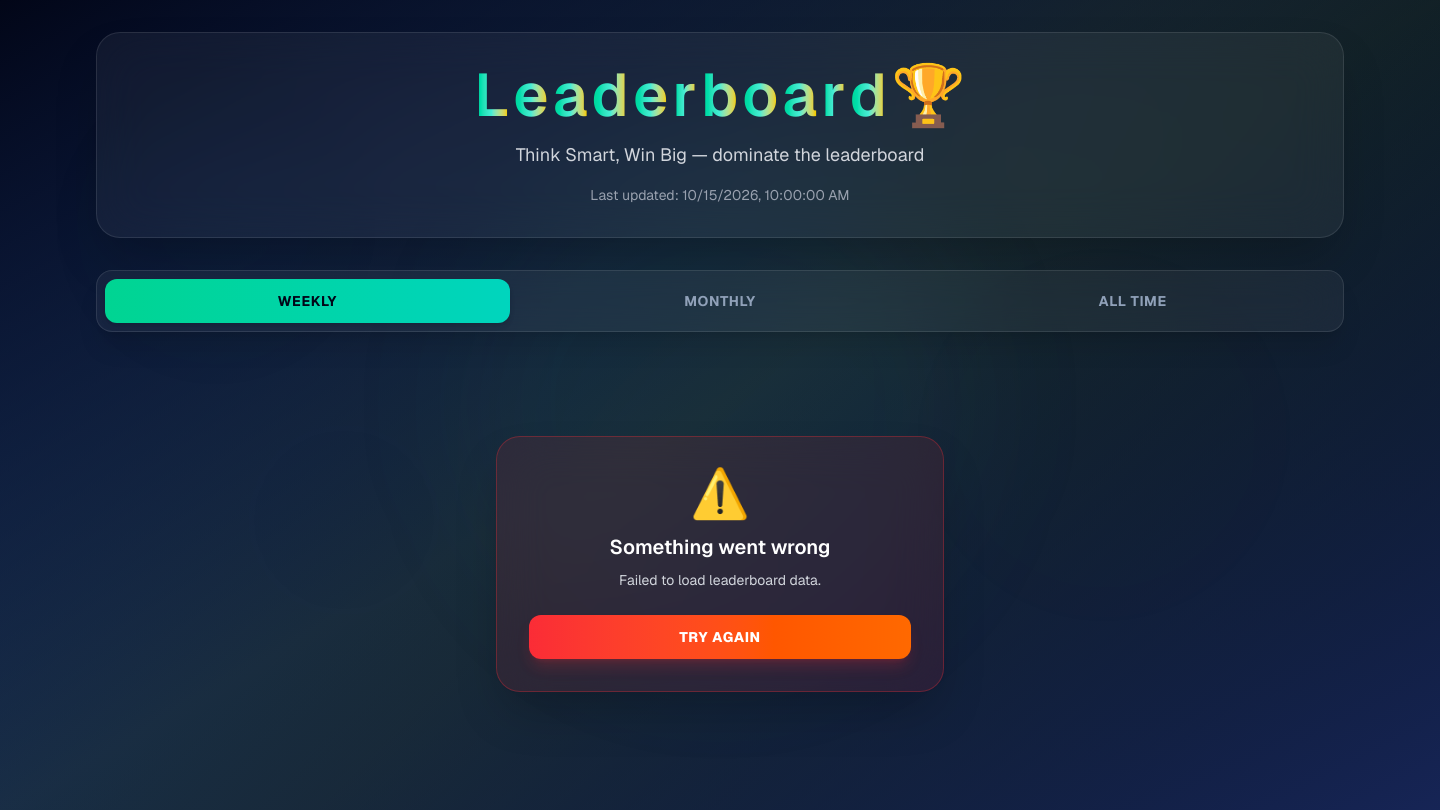
Test: leaderboard page › shows the error and back-to-top buttons without hover support
Hover over the button "Try Again": (720, 637) [529,615,911,659]
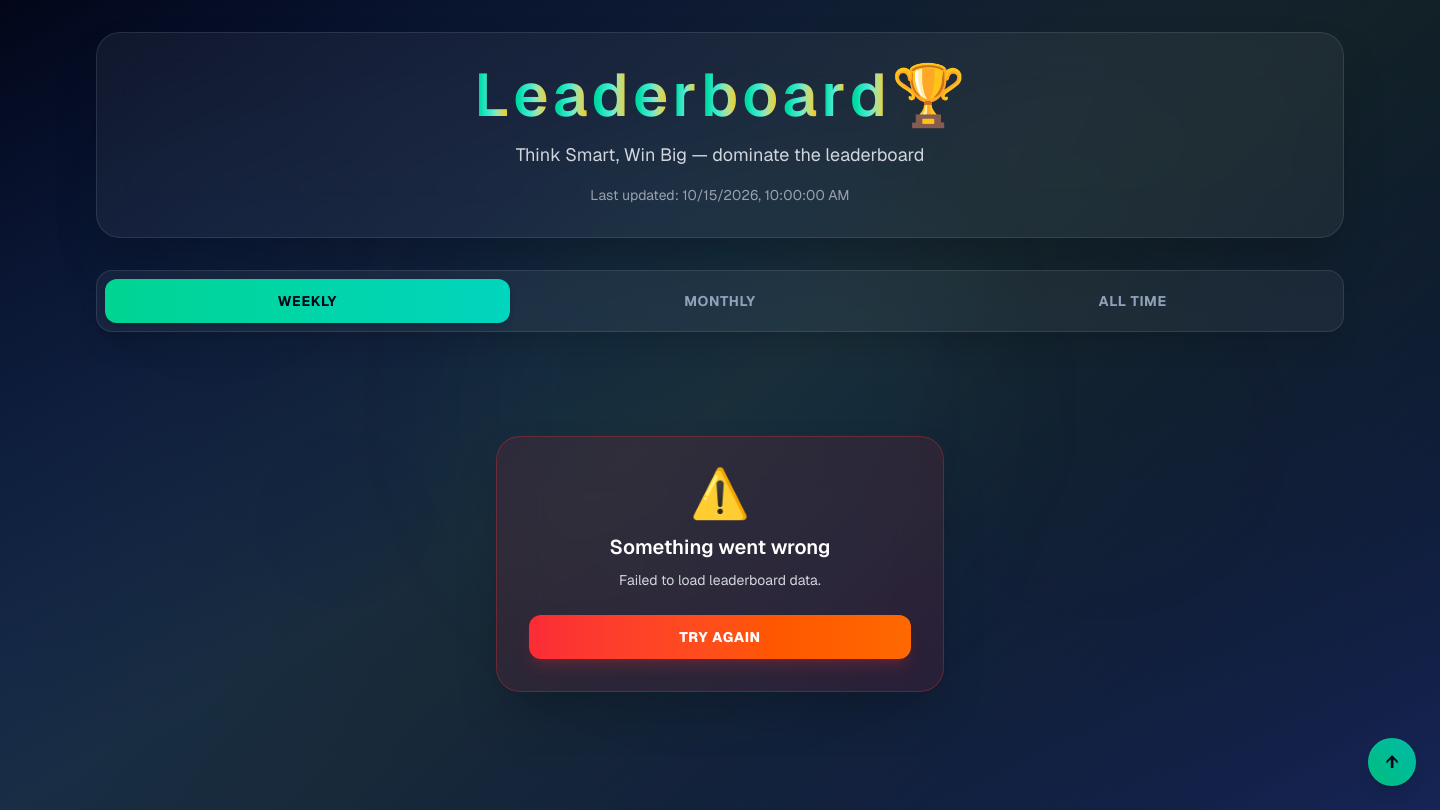
Expected: the text "Failed to load leaderboard data." is shown, [619,571,821,589]
Expected: the text "↑" is shown, [1386,748,1398,776]
